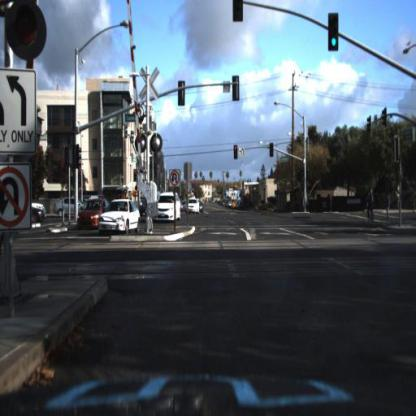biker: (366, 187, 376, 228)
car: (94, 196, 144, 237), (99, 200, 143, 231), (75, 196, 111, 232), (153, 193, 181, 224), (80, 197, 108, 226), (136, 193, 156, 219), (24, 207, 47, 226), (186, 200, 204, 217)
pedestrian: (386, 185, 394, 222), (371, 184, 381, 213), (368, 191, 377, 213), (387, 187, 392, 222), (329, 192, 334, 213)
trafficLight: (8, 4, 53, 69), (329, 13, 339, 50), (233, 1, 243, 25), (269, 141, 276, 157), (234, 141, 239, 162)
trafficLight-Green: (300, 163, 306, 181)
